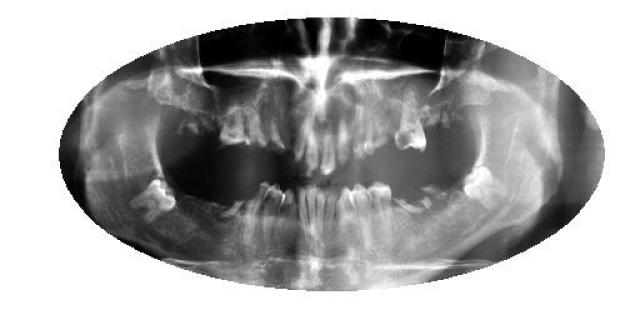Cavity: (395, 90, 427, 155), (244, 180, 272, 244), (392, 181, 432, 214), (420, 172, 446, 202), (225, 196, 247, 219)
